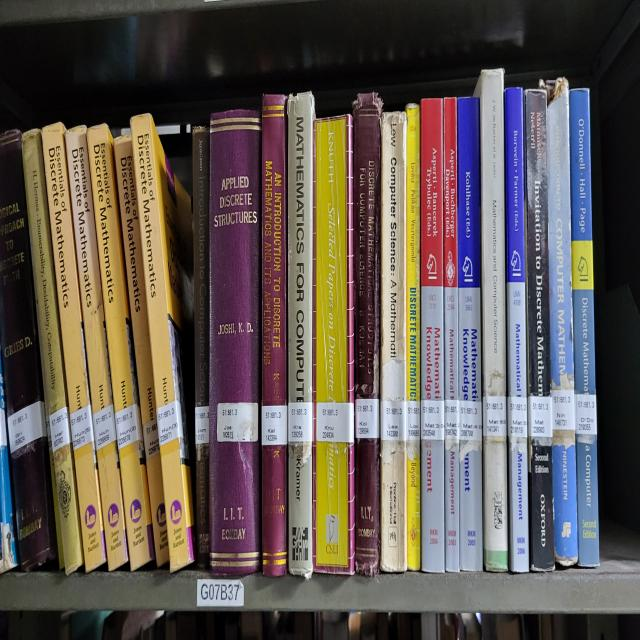Book: (88, 124, 155, 571), (131, 114, 195, 571), (41, 122, 106, 571), (65, 127, 129, 571), (22, 130, 84, 574), (0, 130, 56, 571), (209, 111, 261, 576), (114, 135, 169, 565), (312, 116, 355, 574), (475, 68, 508, 571), (546, 78, 578, 565), (352, 92, 382, 576), (525, 89, 555, 571), (570, 89, 600, 565), (288, 92, 315, 579), (261, 95, 288, 576), (380, 111, 408, 571), (420, 100, 445, 571), (505, 87, 529, 571), (458, 97, 482, 571), (192, 127, 210, 568), (444, 97, 460, 571), (406, 103, 420, 571)
Label: (8, 400, 46, 455), (218, 403, 259, 441), (316, 403, 354, 444), (115, 403, 142, 449), (156, 400, 182, 446), (70, 403, 94, 449), (92, 403, 116, 449), (261, 406, 288, 446), (528, 395, 552, 438), (381, 400, 406, 441), (288, 403, 312, 444), (482, 395, 506, 436), (49, 406, 70, 452), (355, 398, 379, 438), (551, 390, 575, 430), (421, 400, 444, 441), (459, 400, 482, 441), (575, 395, 598, 436), (508, 398, 528, 438), (142, 419, 160, 460), (406, 400, 420, 441), (195, 406, 209, 446), (445, 400, 459, 438)
